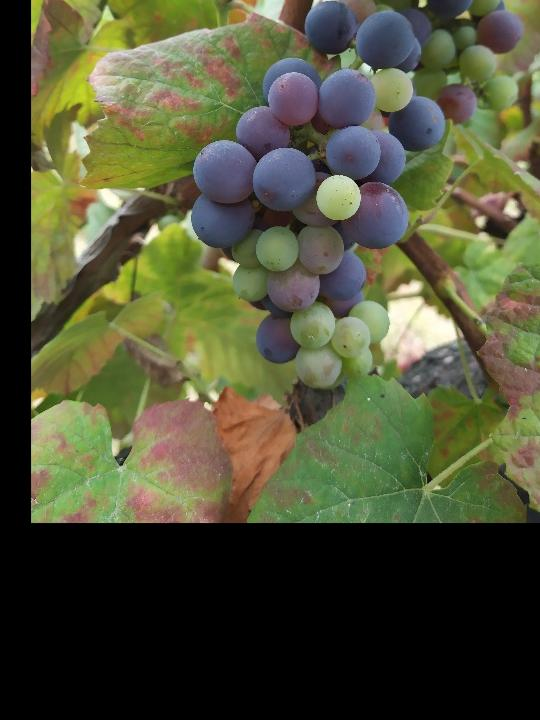grape: (187, 0, 450, 392)
